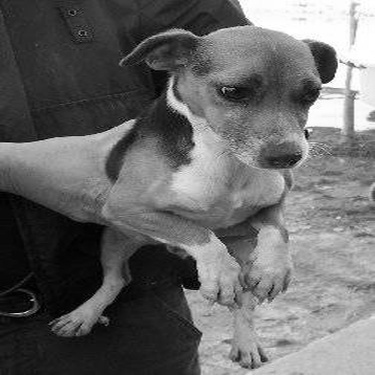dog: (37, 10, 344, 373)
